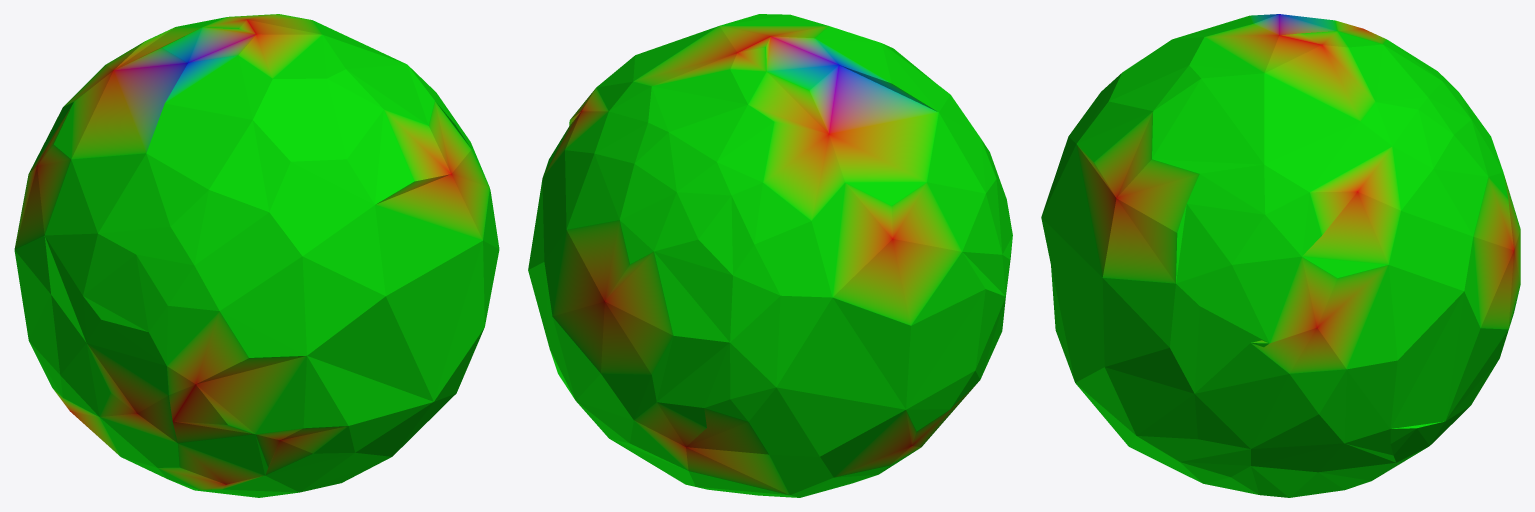
Rendered from after_cleaning_reconquest_5.obj.
3 views of the same model, side by side, from view 1: azimuth 30°, elevation 25°; view 2: azimuth 150°, elevation 25°; view 3: azimuth 270°, elevation 25° (orthographic).
Size of the model in its own units: 1.99 by 1.99 by 1.97.
